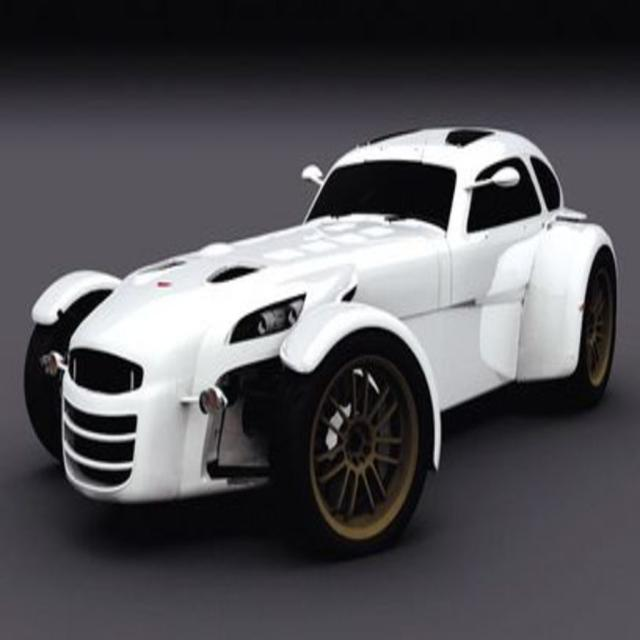car: (21, 121, 619, 556)
